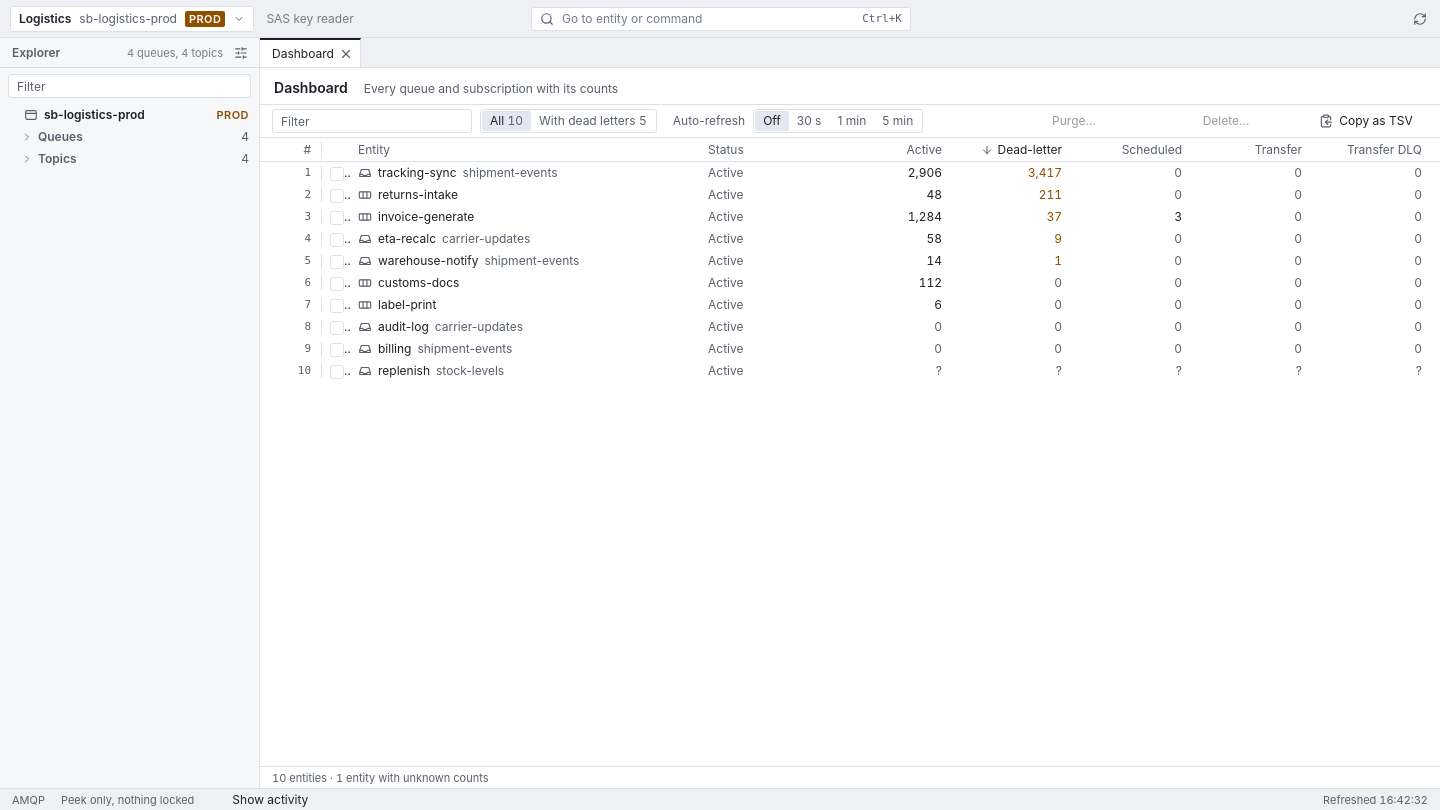
Test: dashboard › says no dead letters anywhere when every count is known
This screenshot has width=1440, height=810.
Expected: the table named "Dashboard" is shown, [260,138,1439,379]
Step 1. Press F5
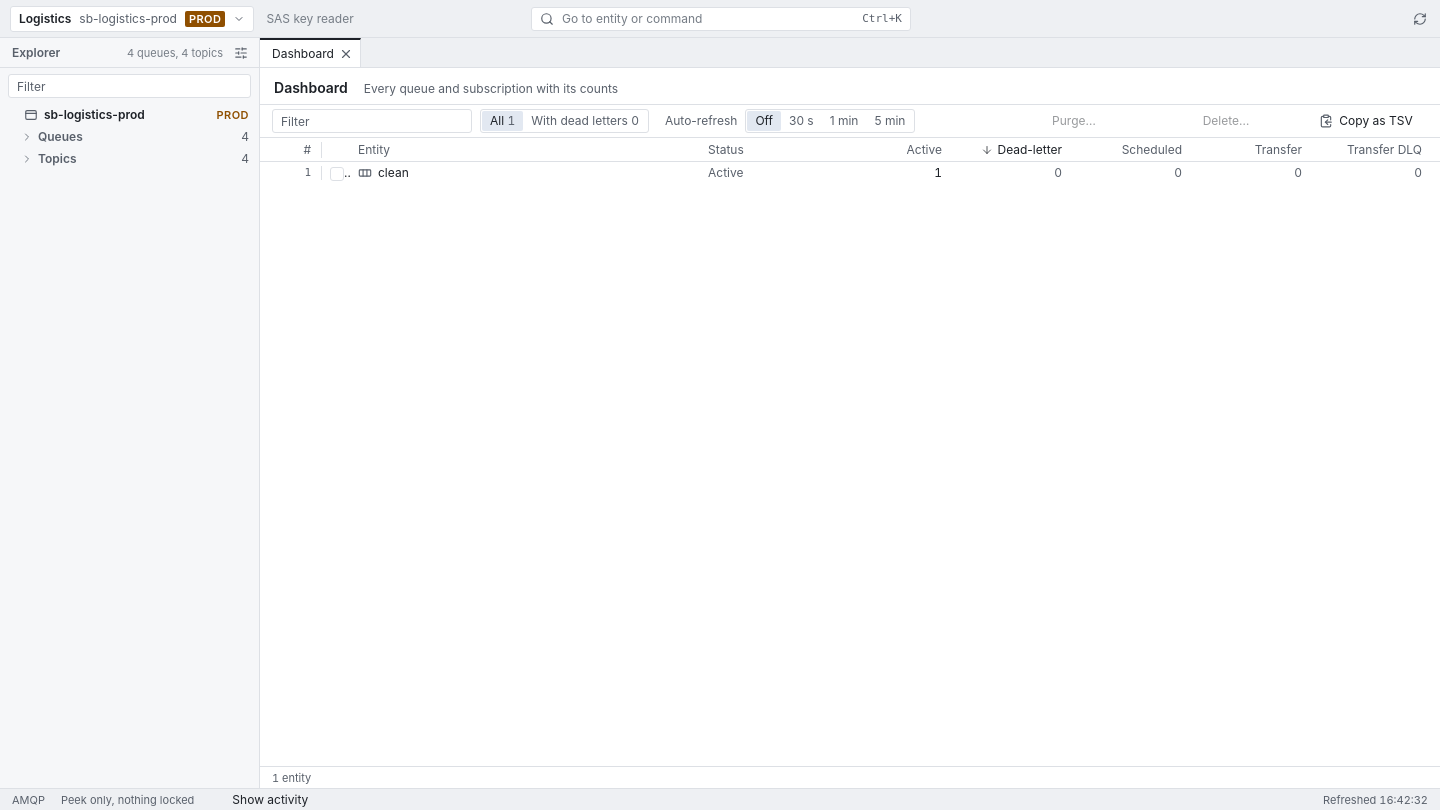
Step 2. Click the radio button labelled "With dead letters 0" → coordinates (585, 121), box [523,111,647,131]
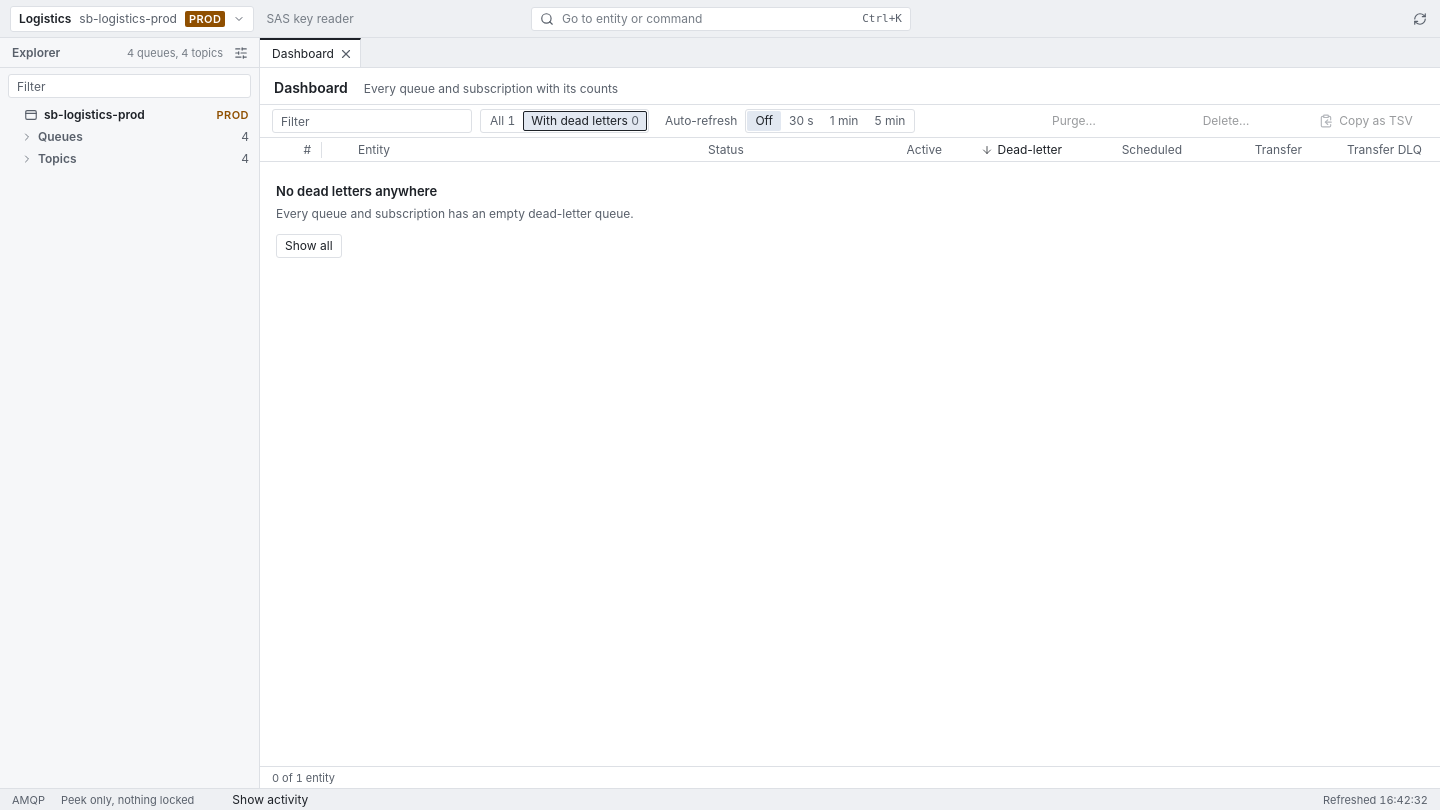
Expected: the text "No dead letters anywhere" is shown, [276,182,437,200]
